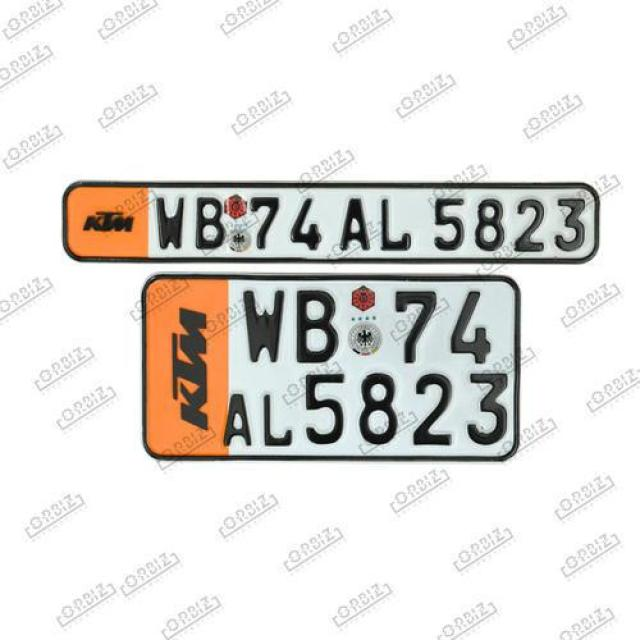2: (412, 374, 458, 449), (514, 199, 548, 254)
3: (467, 372, 510, 446), (554, 198, 586, 252)
4: (449, 289, 496, 365), (290, 196, 324, 251)
5: (302, 372, 348, 448), (431, 198, 469, 252)
7: (392, 289, 440, 366), (246, 196, 284, 250)
8: (358, 371, 399, 448), (476, 198, 507, 252)
a: (220, 393, 255, 449), (339, 195, 373, 251)
b: (294, 289, 341, 366), (190, 196, 228, 252)
l: (260, 392, 296, 448), (378, 198, 412, 252)
w: (242, 290, 288, 364), (151, 194, 189, 251)
